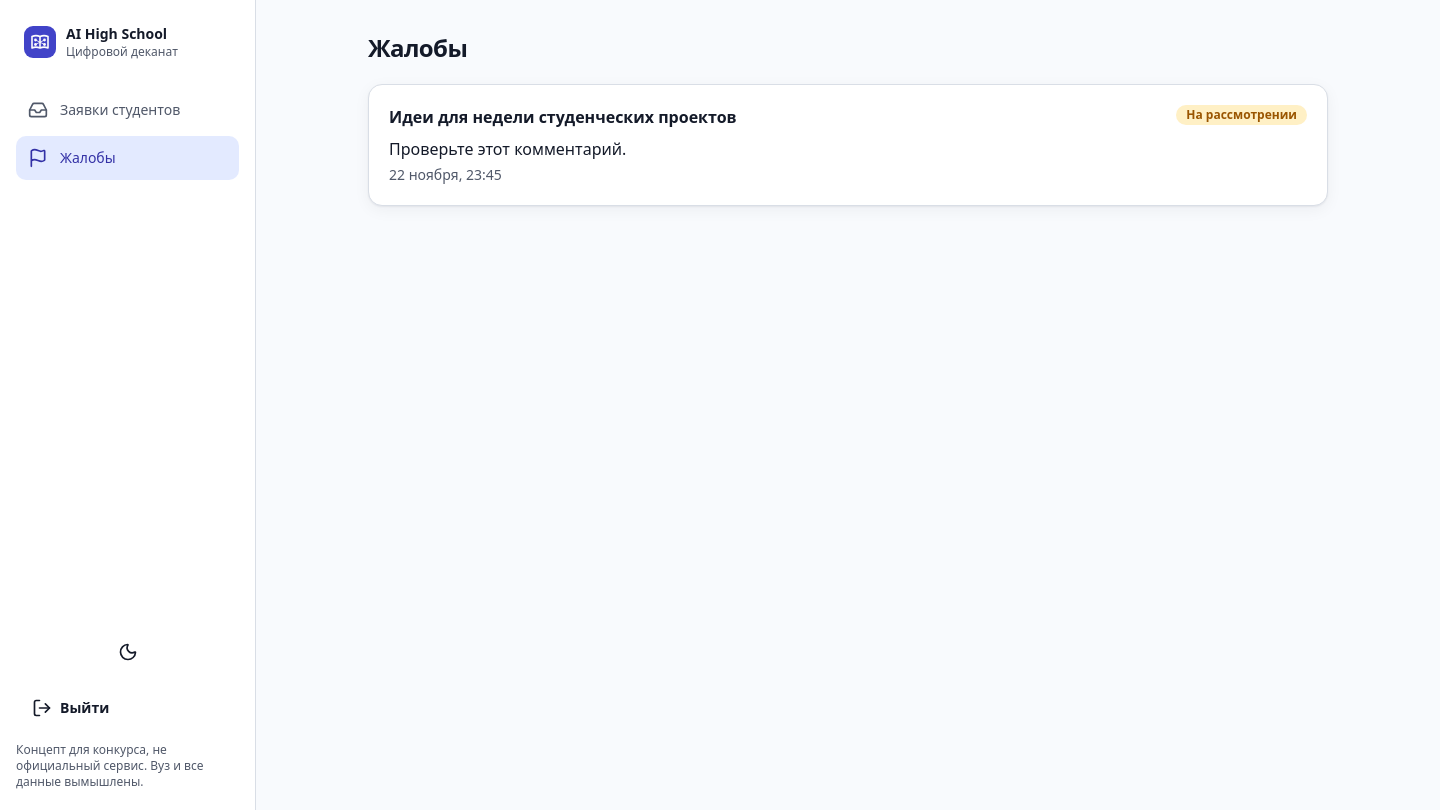
Test case: Скрыть комментарий обновляет карточку, очередь и студенческое обсуждение
What coordinates should you click on to do the following:
click the link "Проверьте этот комментарий"
I would click on:
 (563, 117)
Its box is [369, 85, 1327, 205].
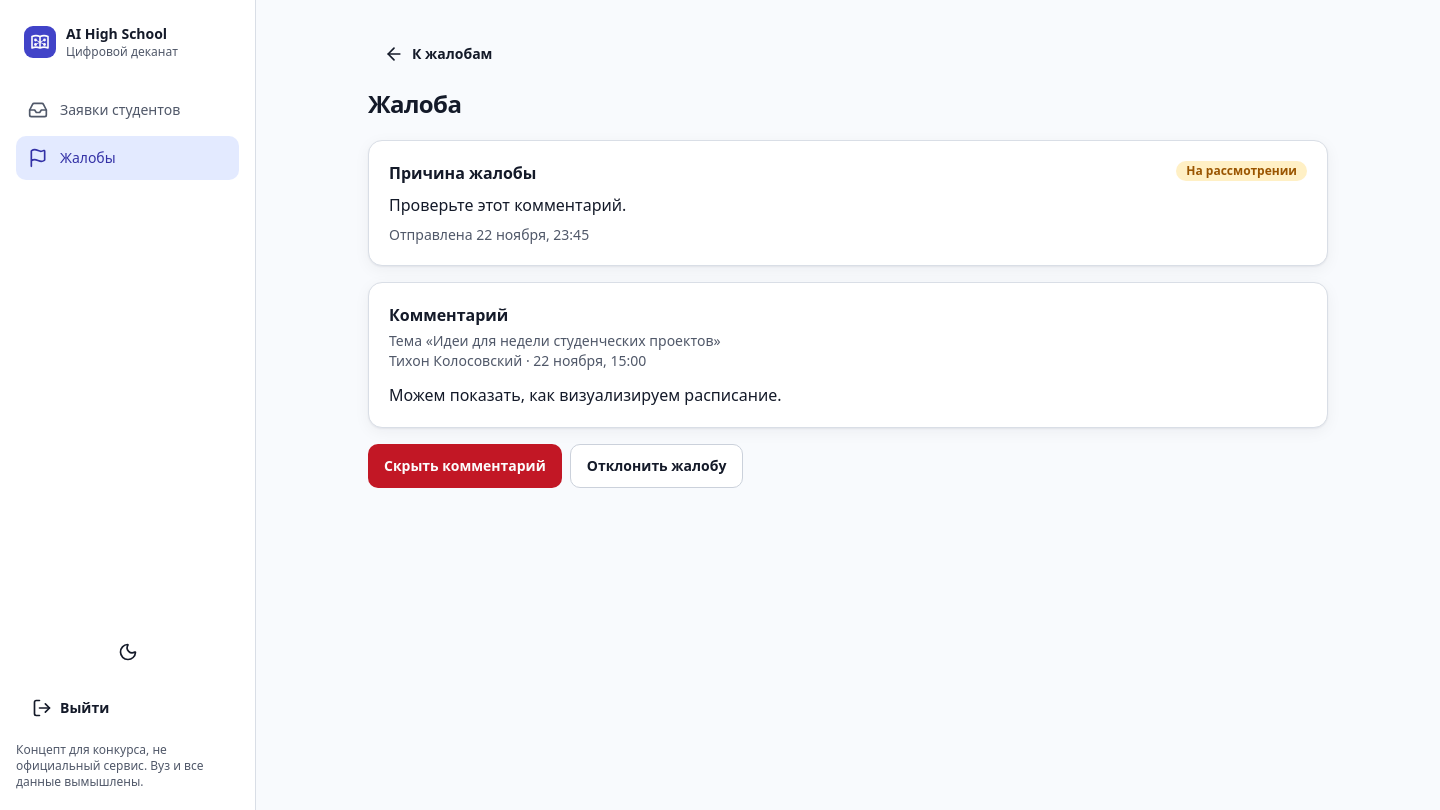
Check: the text "Проверьте этот комментарий." is shown, box [389, 194, 626, 216]
Check: the text "Можем показать, как визуализируем расписание." is shown, box [389, 384, 782, 406]
What coordinates should you click on to do the following:
click the button "Скрыть комментарий"
I would click on:
 (465, 466)
Its box is [368, 444, 562, 488].
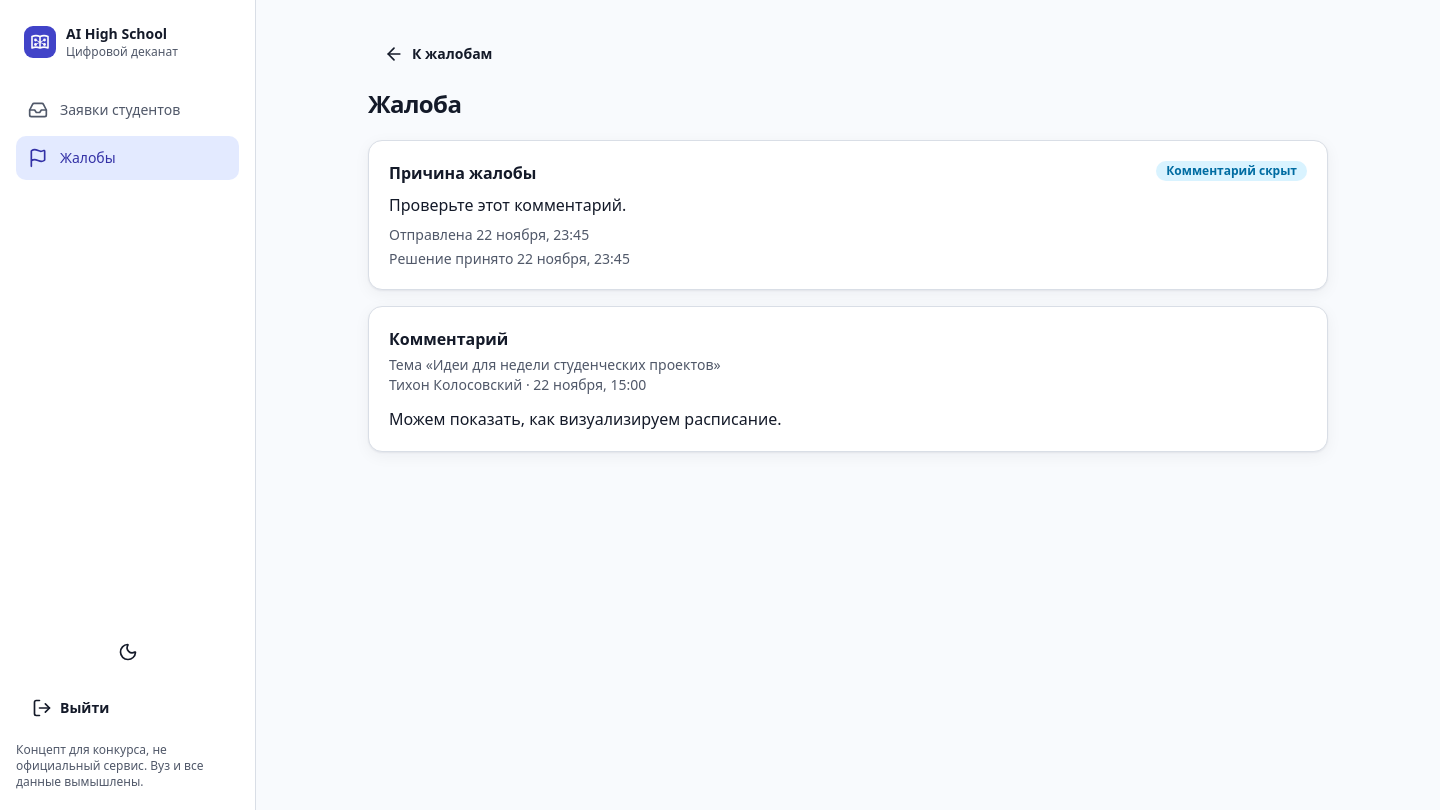
Check: the text "Комментарий скрыт" is shown, box [1156, 161, 1307, 181]
Check: the button "Скрыть комментарий" is gone
What coordinates should you click on to do the following:
click the link "К жалобам"
I would click on:
 (438, 54)
Its box is [384, 44, 492, 64].
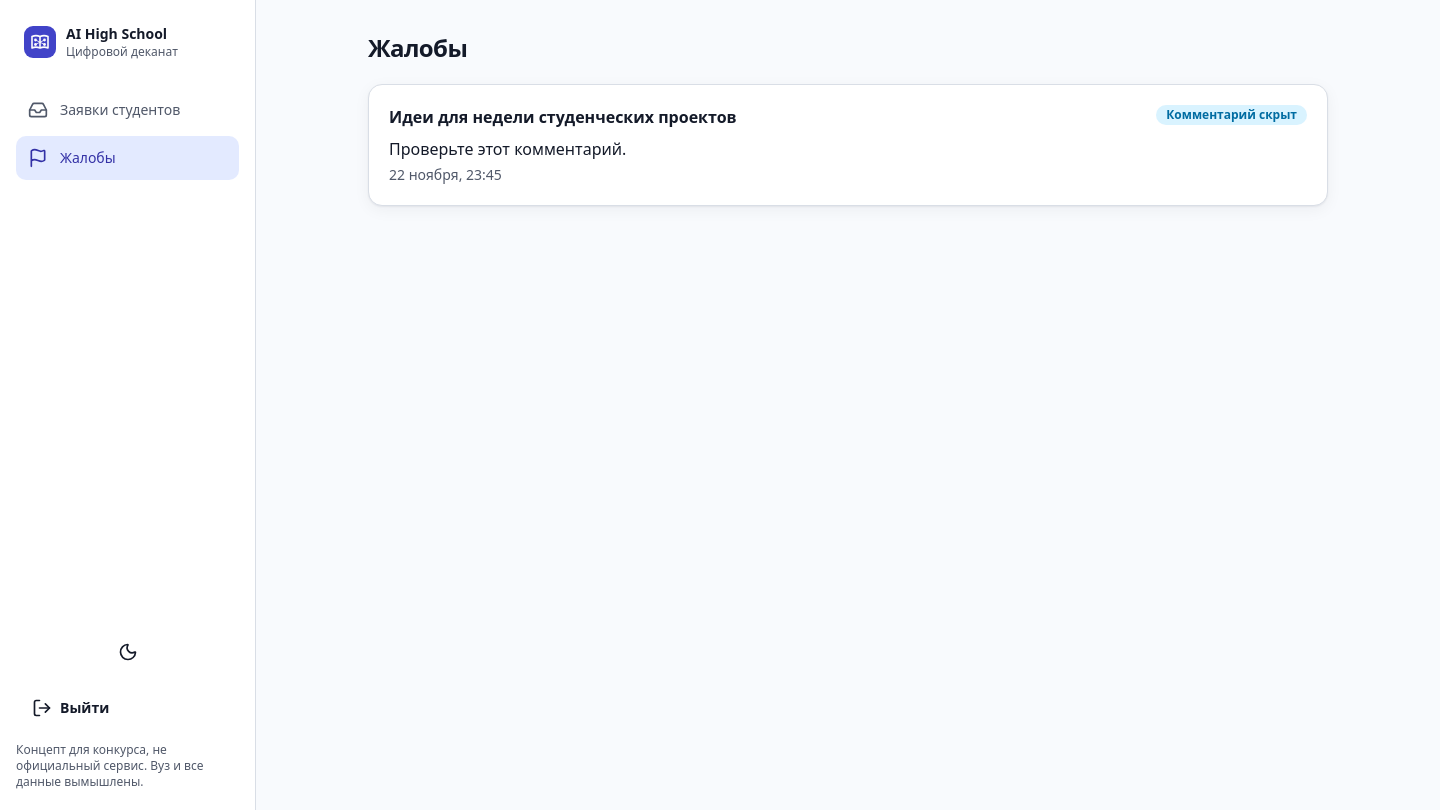
Check: the link "Комментарий скрыт" is shown, box [369, 85, 1327, 205]
